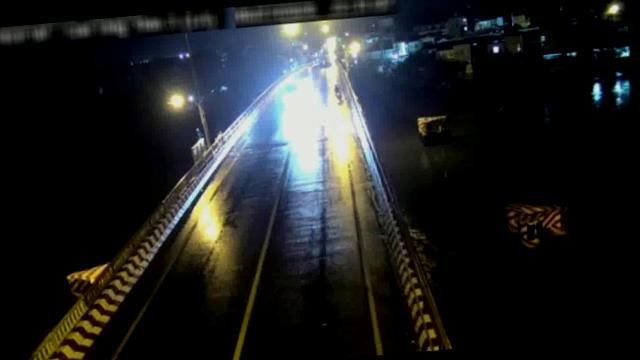Bike: (332, 82, 345, 104)
